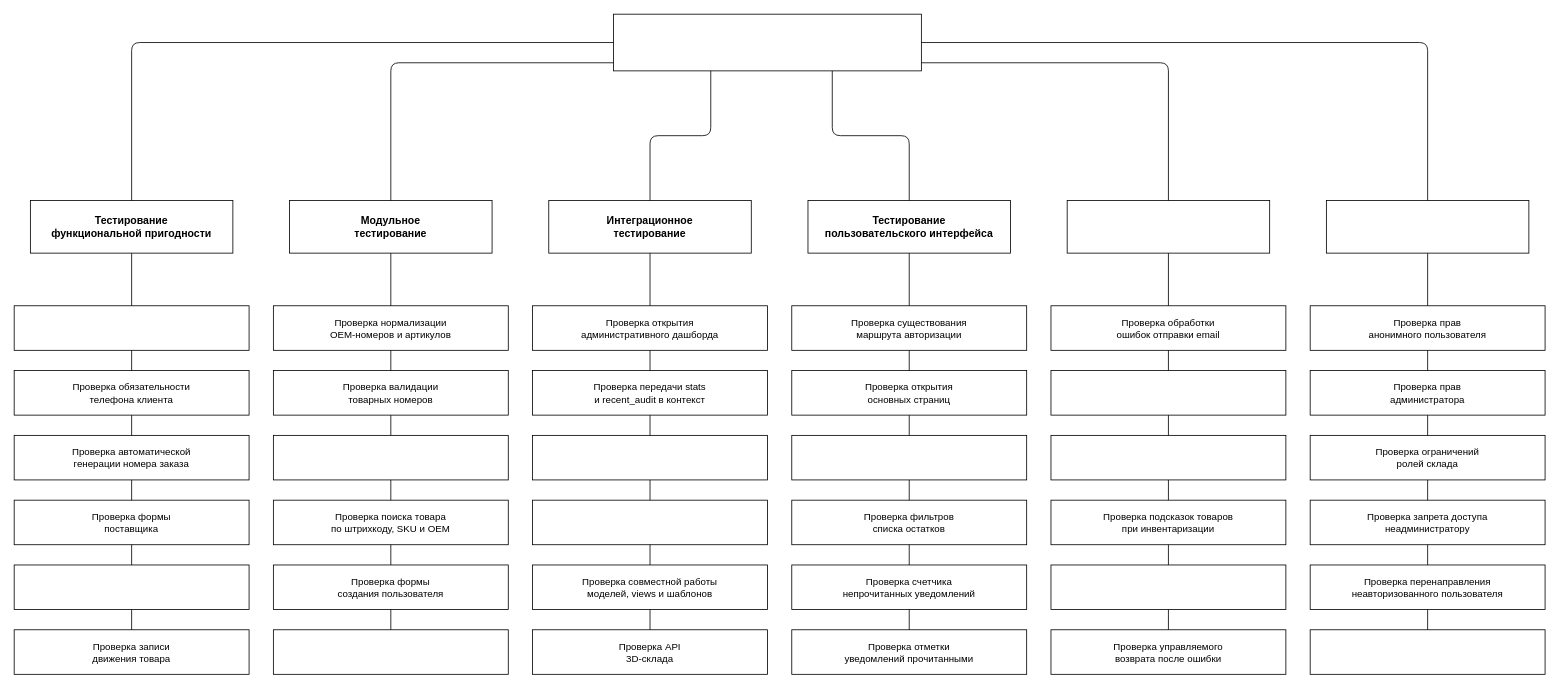
Image size: 1559x689. Some labels were removed from this diagram. Here are the shapes that lost their labels. From the top down, the centre of each, then its label:
At pixel 767 42: "Схема тестирования WEB-приложения WMS для управления складом автозапчастей".
At pixel 1168 226: "Тестирование надежности".
At pixel 1427 226: "Тестирование безопасности".
At pixel 131 327: "Проверка формы создания заказа".
At pixel 1168 392: "Проверка восстановления после ConnectionError".
At pixel 390 457: "Проверка генерации штрихкодов и QR-кодов".
At pixel 649 457: "Проверка списка складов в админ-панели".
At pixel 909 457: "Проверка отображения остатков в интерфейсе".
At pixel 1168 457: "Проверка обработки ошибки сброса пароля".
At pixel 649 522: "Проверка поиска и фильтрации складов".
At pixel 131 587: "Проверка количества в строке приемки".
At pixel 1168 587: "Проверка поведения при некорректных данных".
At pixel 390 651: "Проверка запрета дублирующихся учетных записей".
At pixel 1427 651: "Проверка защиты от path traversal".
